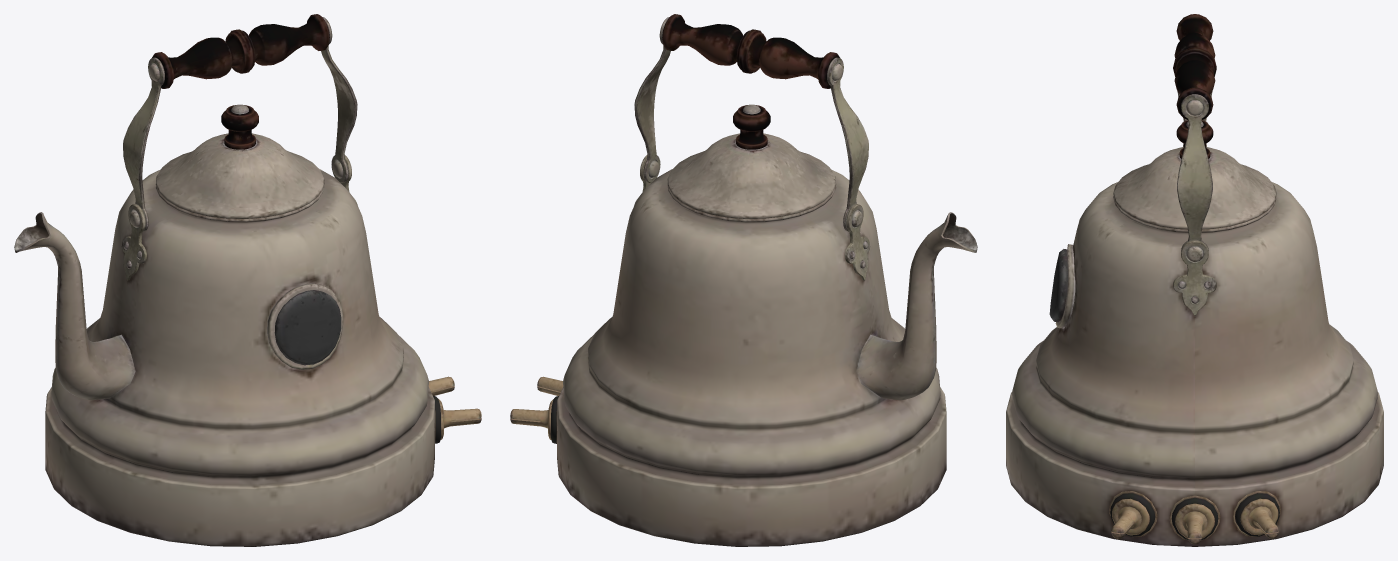
File: vintage_electric_kettle.glb
3 views of the same model, side by side, from view 1: azimuth 30°, elevation 25°; view 2: azimuth 150°, elevation 25°; view 3: azimuth 270°, elevation 25° (orthographic). The views are drawn at different scales.
Parts seen in each view (by area): view 1: vintage_electric_kettle; view 2: vintage_electric_kettle; view 3: vintage_electric_kettle.
Part boxes in pixels (box(x1,y1,x2,y2)): vintage_electric_kettle: box(14, 14, 481, 546); vintage_electric_kettle: box(510, 14, 977, 546); vintage_electric_kettle: box(1006, 14, 1383, 546).
Size of the model in its own units: 0.3209 by 0.3048 by 0.2486.
2 materials, 2 textured.
